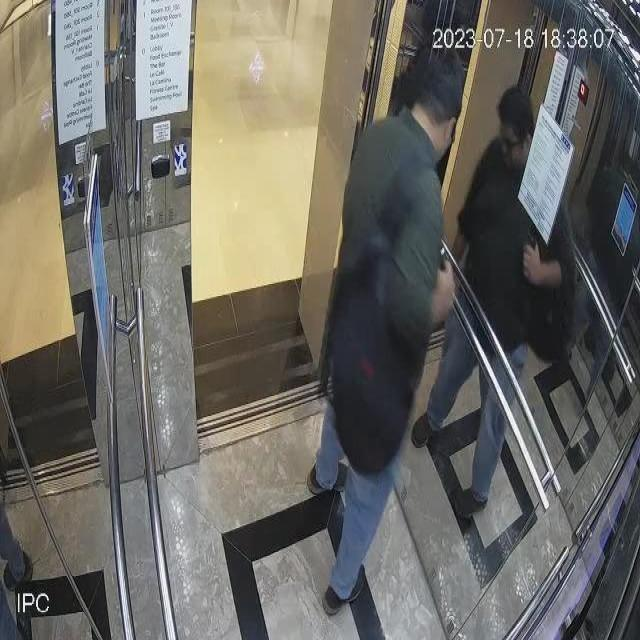person: (291, 38, 470, 614), (413, 61, 579, 596)
